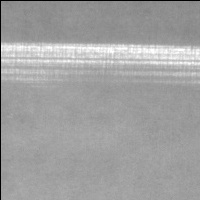scratches: (1, 43, 199, 72)
